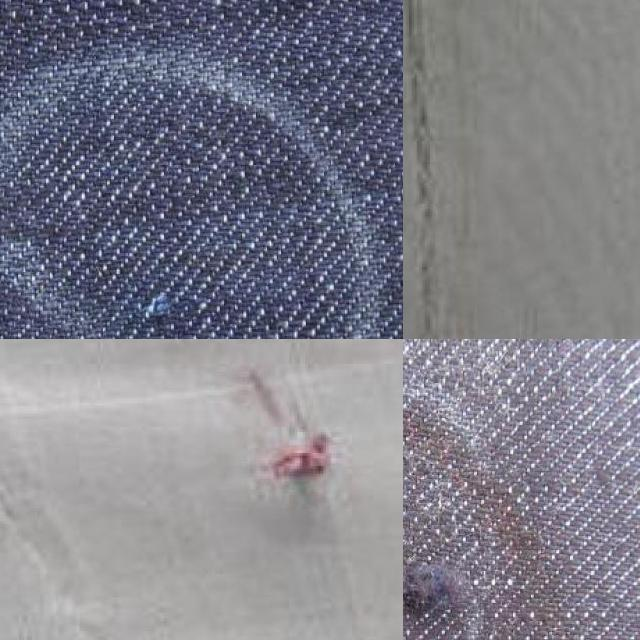stains: (0, 339, 403, 640), (403, 0, 491, 339), (96, 244, 235, 339), (403, 542, 505, 640)
